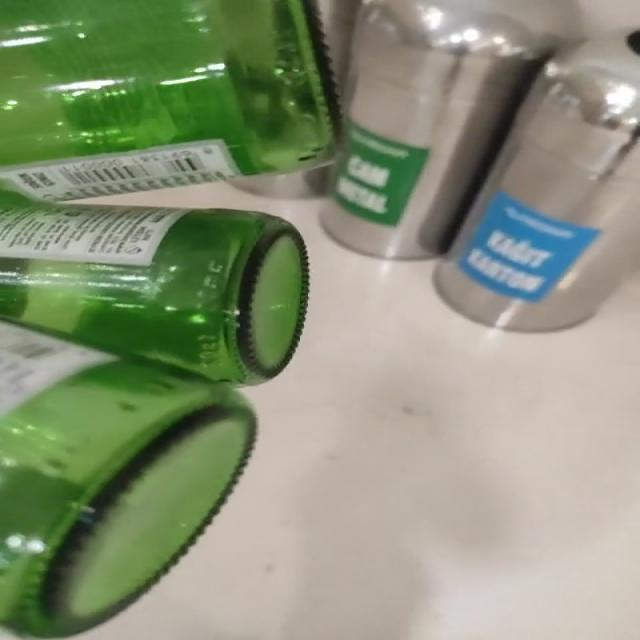Glass: (1, 0, 337, 639)
